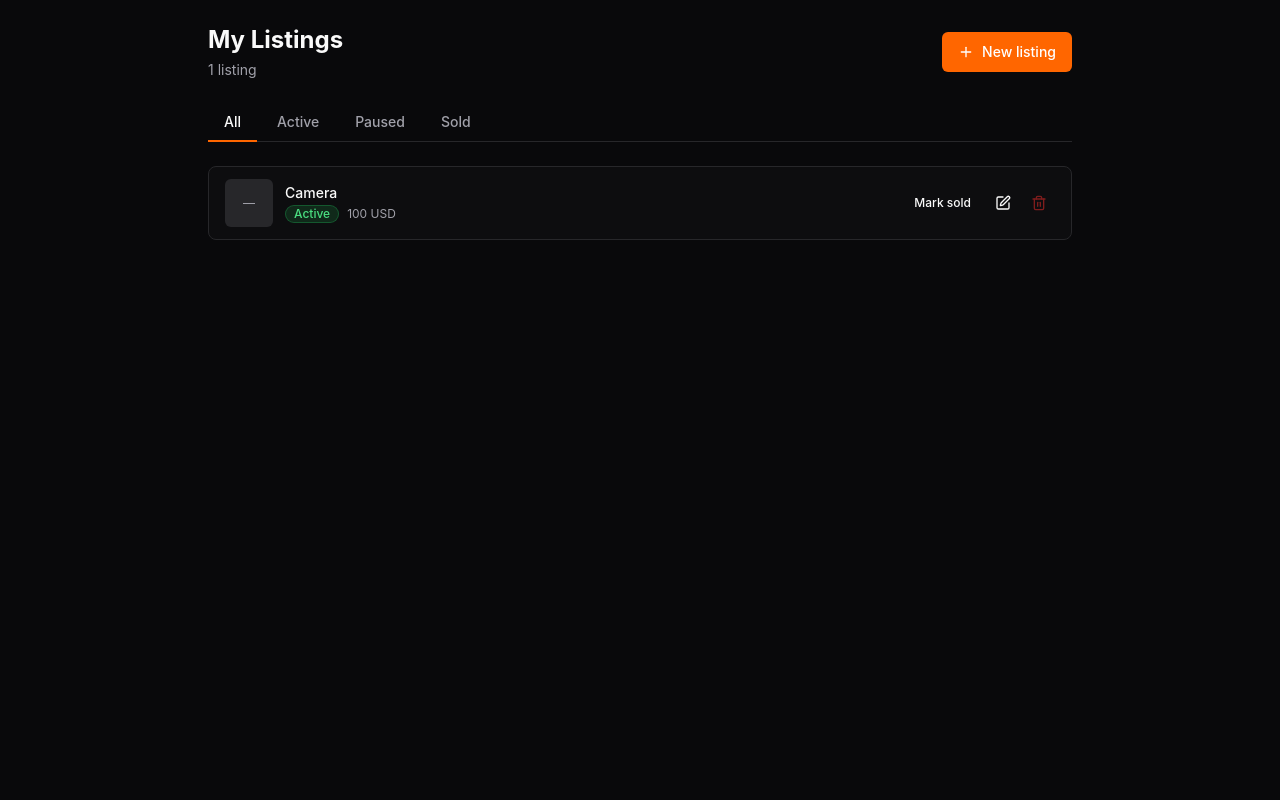
MyListingsDashboard — delete flow › closes dialog on Cancel
Click the button named "delete camera" at (1039, 203), box top-left (1023, 187), bottom-right (1055, 219)
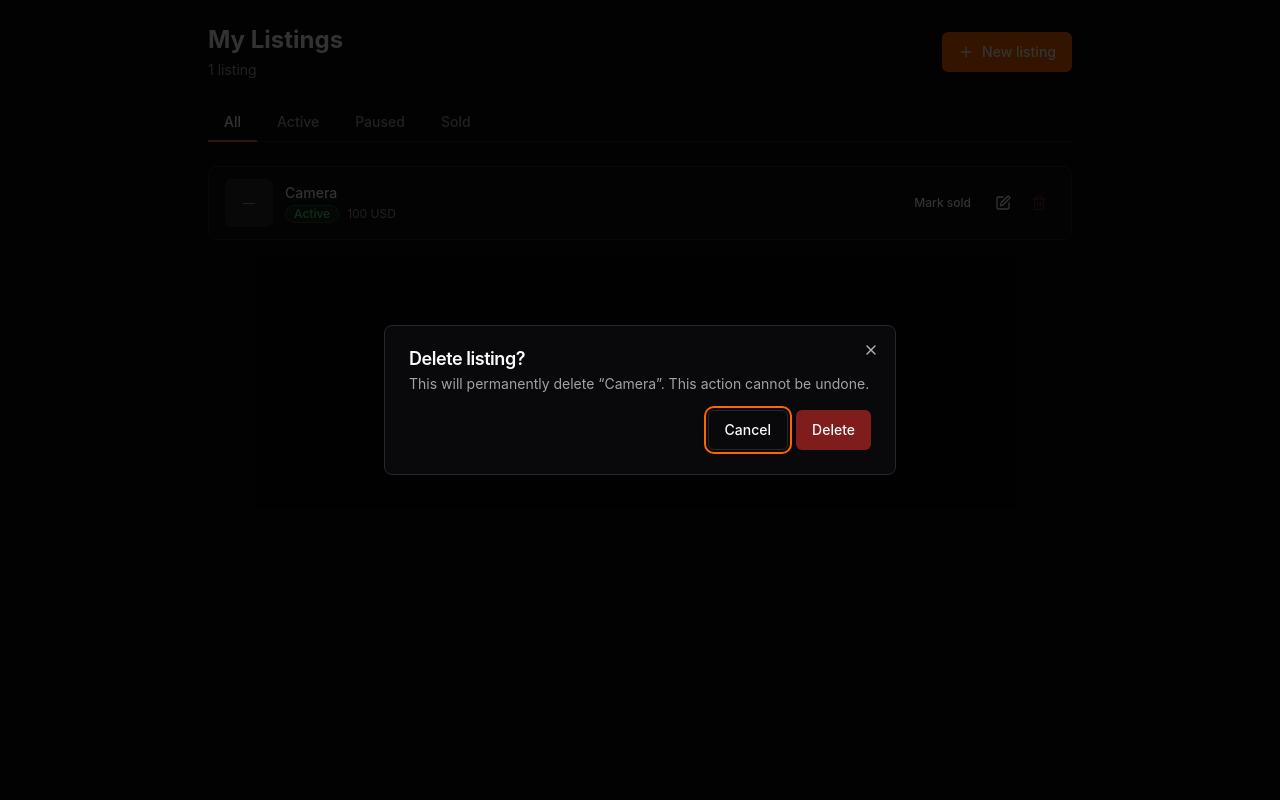
expect the dialog is shown: met, box top-left (384, 325), bottom-right (896, 475)
Click the button "Cancel" at (748, 430), box top-left (708, 410), bottom-right (788, 450)
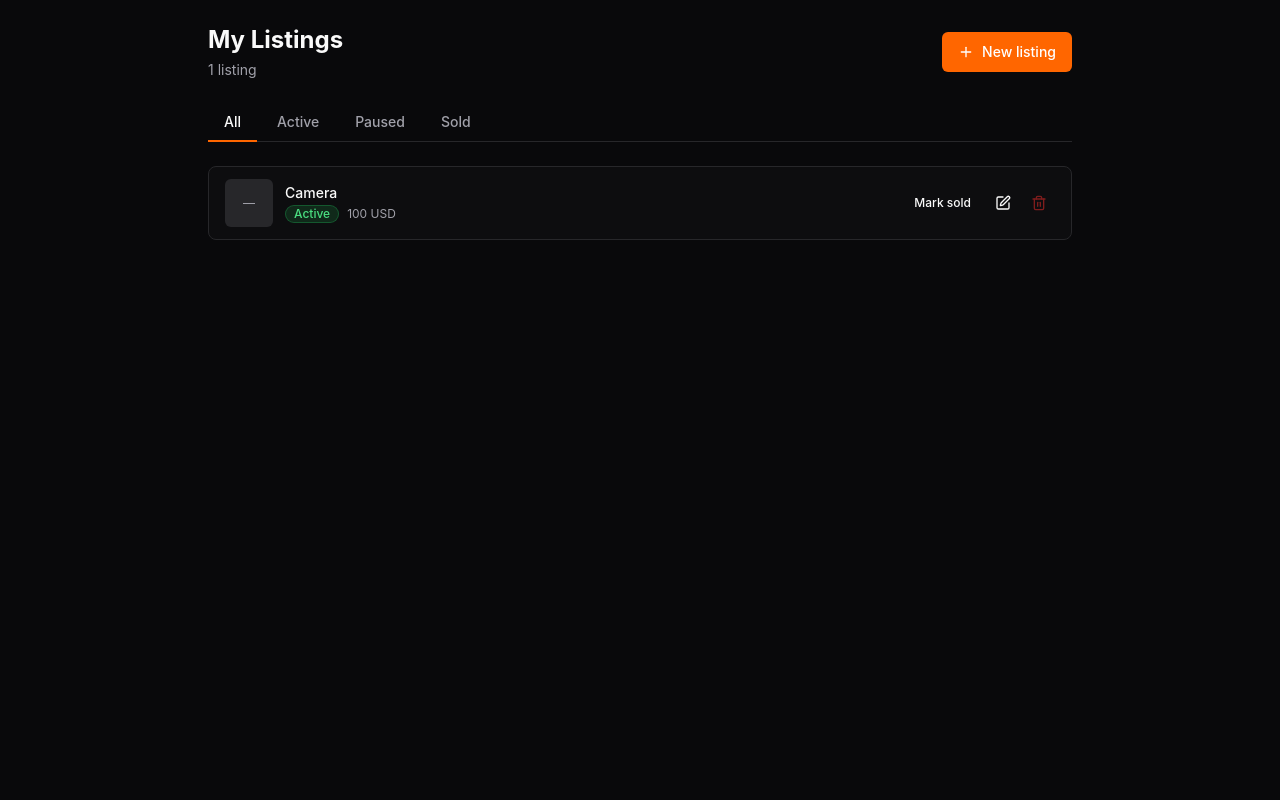
expect the dialog is gone: met
